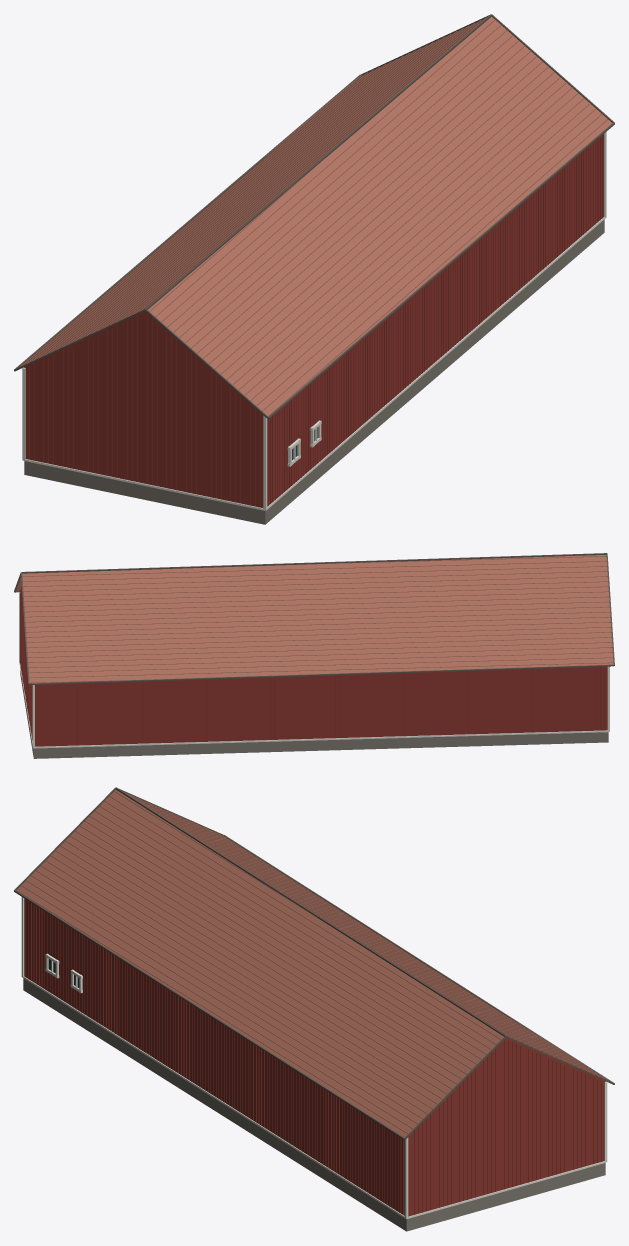
The picture shows the model from 3 angles, top to bottom: view 1: azimuth 30°, elevation 25°; view 2: azimuth 150°, elevation 25°; view 3: azimuth 270°, elevation 25°; orthographic projection. The views are drawn at different scales.
Parts seen in each view (by area): view 1: Tortuna facility | service-yard-long-barn | Roof tile, Tortuna facility | service-yard-long-barn | Timber, Tortuna facility | service-yard-long-barn | Batten, Tortuna facility | service-yard-long-barn | Tile course, Tortuna facility | service-yard-long-barn | Foundation, Tortuna facility | service-yard-long-barn | Roof flashing, Tortuna facility | service-yard-long-barn | White trim; view 2: Tortuna facility | service-yard-long-barn | Roof tile, Tortuna facility | service-yard-long-barn | Timber, Tortuna facility | service-yard-long-barn | Tile course, Tortuna facility | service-yard-long-barn | Batten, Tortuna facility | service-yard-long-barn | Foundation, Tortuna facility | service-yard-long-barn | Roof flashing, Tortuna facility | service-yard-long-barn | White trim; view 3: Tortuna facility | service-yard-long-barn | Roof tile, Tortuna facility | service-yard-long-barn | Timber, Tortuna facility | service-yard-long-barn | Batten, Tortuna facility | service-yard-long-barn | Tile course, Tortuna facility | service-yard-long-barn | Foundation, Tortuna facility | service-yard-long-barn | Roof flashing, Tortuna facility | service-yard-long-barn | White trim.
Part boxes in pixels (left/top/right/bottom): Tortuna facility | service-yard-long-barn | Roof tile: left=20, top=16, right=612, bottom=415; Tortuna facility | service-yard-long-barn | Timber: left=24, top=134, right=603, bottom=507; Tortuna facility | service-yard-long-barn | Batten: left=28, top=135, right=603, bottom=507; Tortuna facility | service-yard-long-barn | Tile course: left=21, top=17, right=608, bottom=416; Tortuna facility | service-yard-long-barn | Foundation: left=24, top=219, right=604, bottom=524; Tortuna facility | service-yard-long-barn | Roof flashing: left=14, top=14, right=614, bottom=418; Tortuna facility | service-yard-long-barn | White trim: left=22, top=132, right=606, bottom=510; Tortuna facility | service-yard-long-barn | Roof tile: left=15, top=555, right=613, bottom=683; Tortuna facility | service-yard-long-barn | Timber: left=20, top=587, right=607, bottom=746; Tortuna facility | service-yard-long-barn | Tile course: left=16, top=556, right=612, bottom=683; Tortuna facility | service-yard-long-barn | Batten: left=20, top=588, right=604, bottom=746; Tortuna facility | service-yard-long-barn | Foundation: left=20, top=670, right=608, bottom=758; Tortuna facility | service-yard-long-barn | Roof flashing: left=14, top=553, right=614, bottom=685; Tortuna facility | service-yard-long-barn | White trim: left=19, top=592, right=609, bottom=748; Tortuna facility | service-yard-long-barn | Roof tile: left=17, top=790, right=604, bottom=1137; Tortuna facility | service-yard-long-barn | Timber: left=24, top=898, right=605, bottom=1216; Tortuna facility | service-yard-long-barn | Batten: left=25, top=899, right=601, bottom=1215; Tortuna facility | service-yard-long-barn | Tile course: left=16, top=791, right=608, bottom=1133; Tortuna facility | service-yard-long-barn | Foundation: left=23, top=978, right=605, bottom=1231; Tortuna facility | service-yard-long-barn | Roof flashing: left=14, top=787, right=614, bottom=1139; Tortuna facility | service-yard-long-barn | White trim: left=21, top=897, right=607, bottom=1218.
Bounding box in the file's own units: 34.67 × 9.16 × 28.8.
